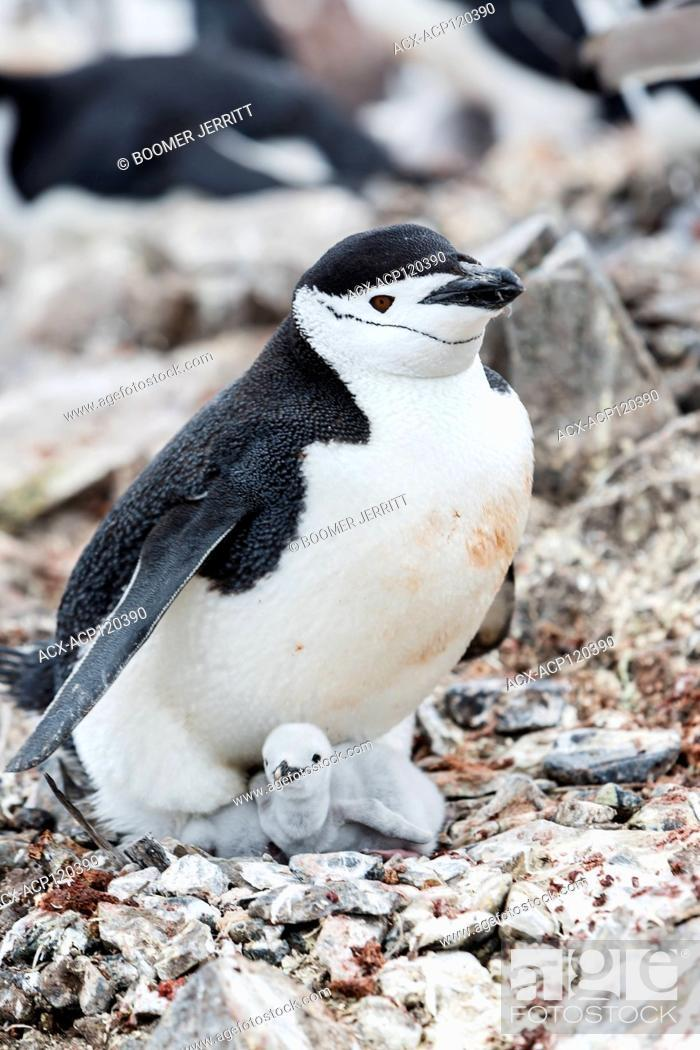chinstrap: (23, 228, 583, 860)
